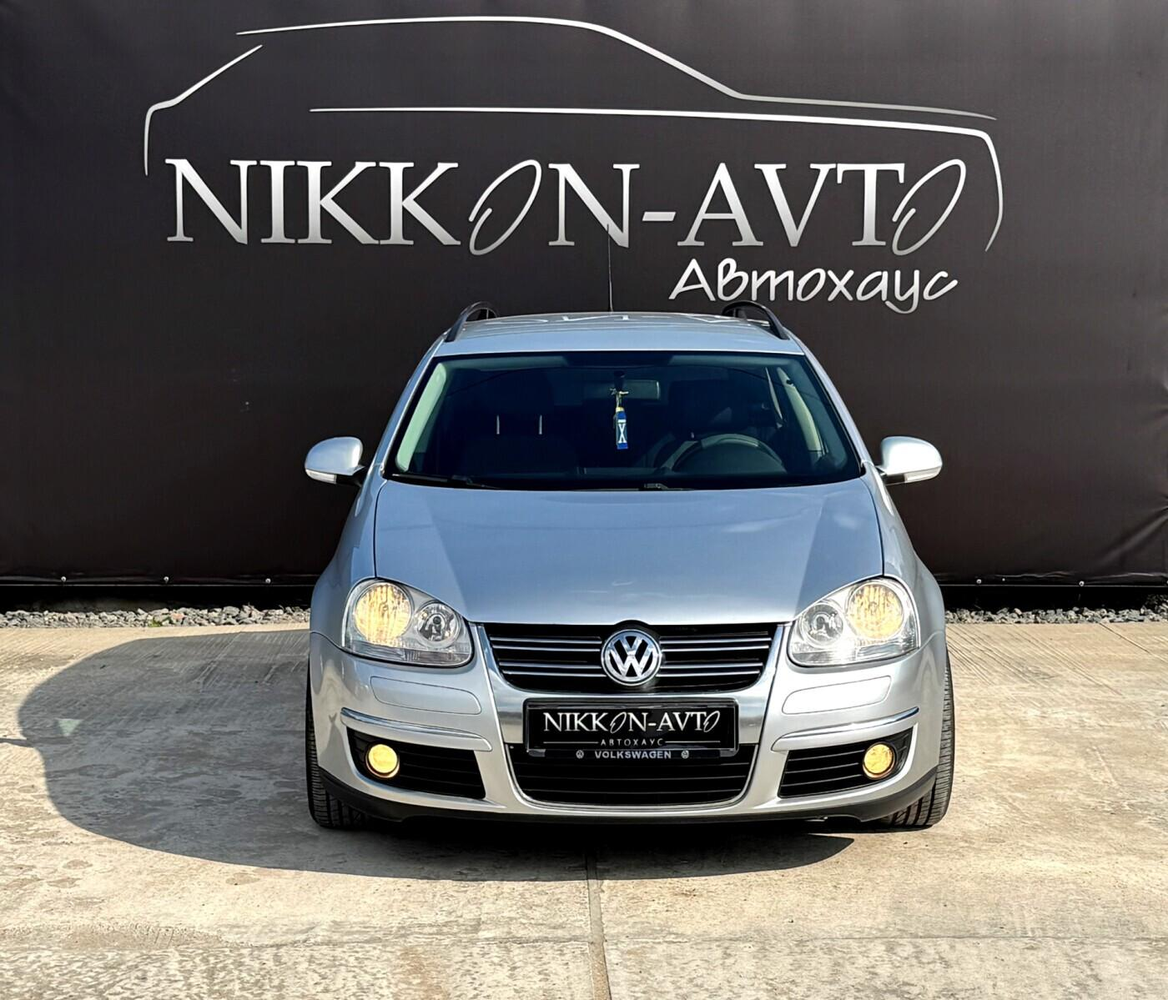Golf_2003-2009: (298, 305, 973, 869)
